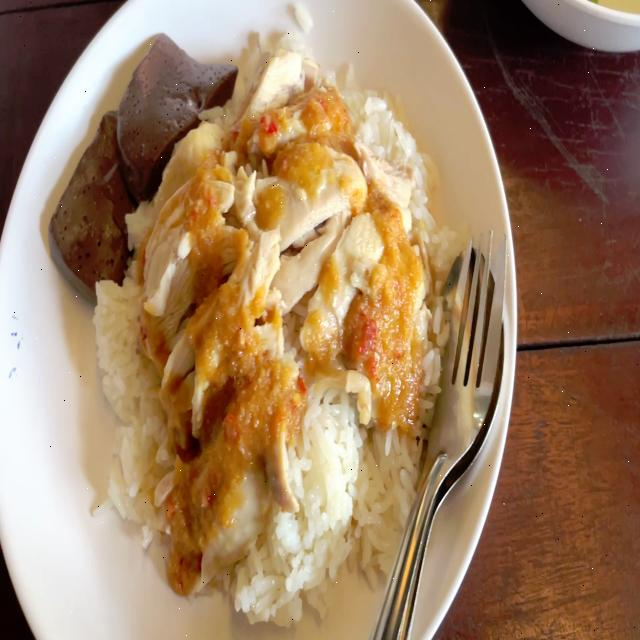boiled_chicken: (162, 90, 400, 464)
boiled_chicken_blood_jelly: (50, 109, 136, 287), (124, 42, 236, 174)
chicken_rice: (43, 8, 460, 617)
